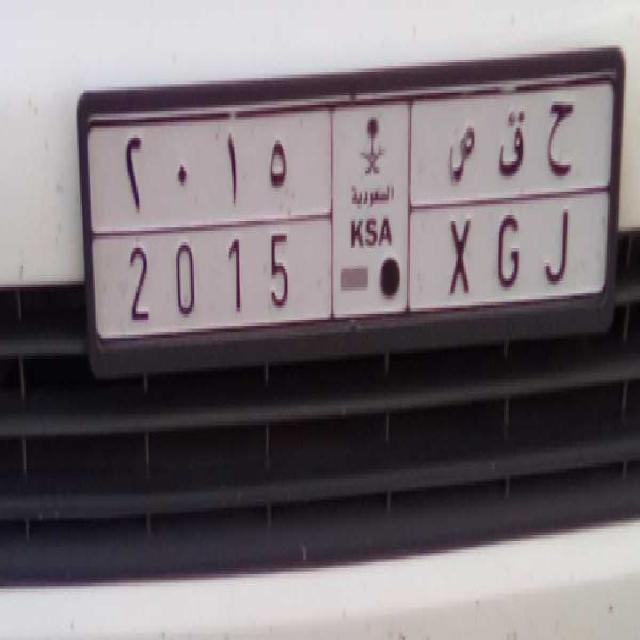license_plate: (109, 195, 603, 336)
